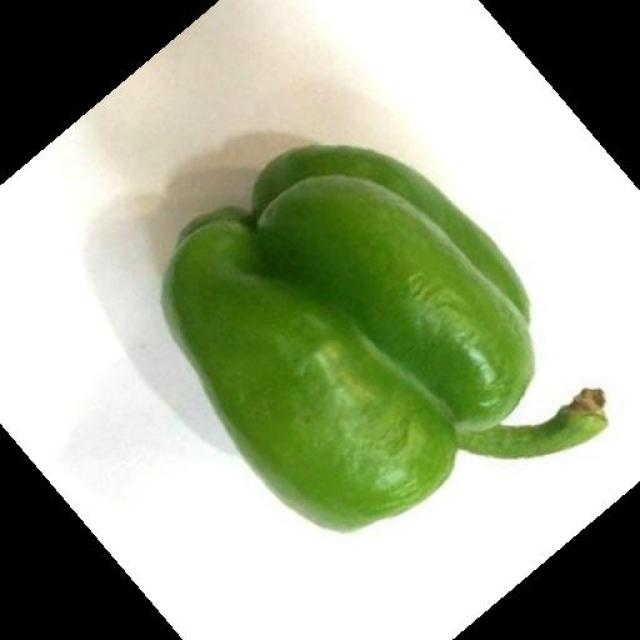Fresh_Capsicum: (170, 111, 614, 505)
